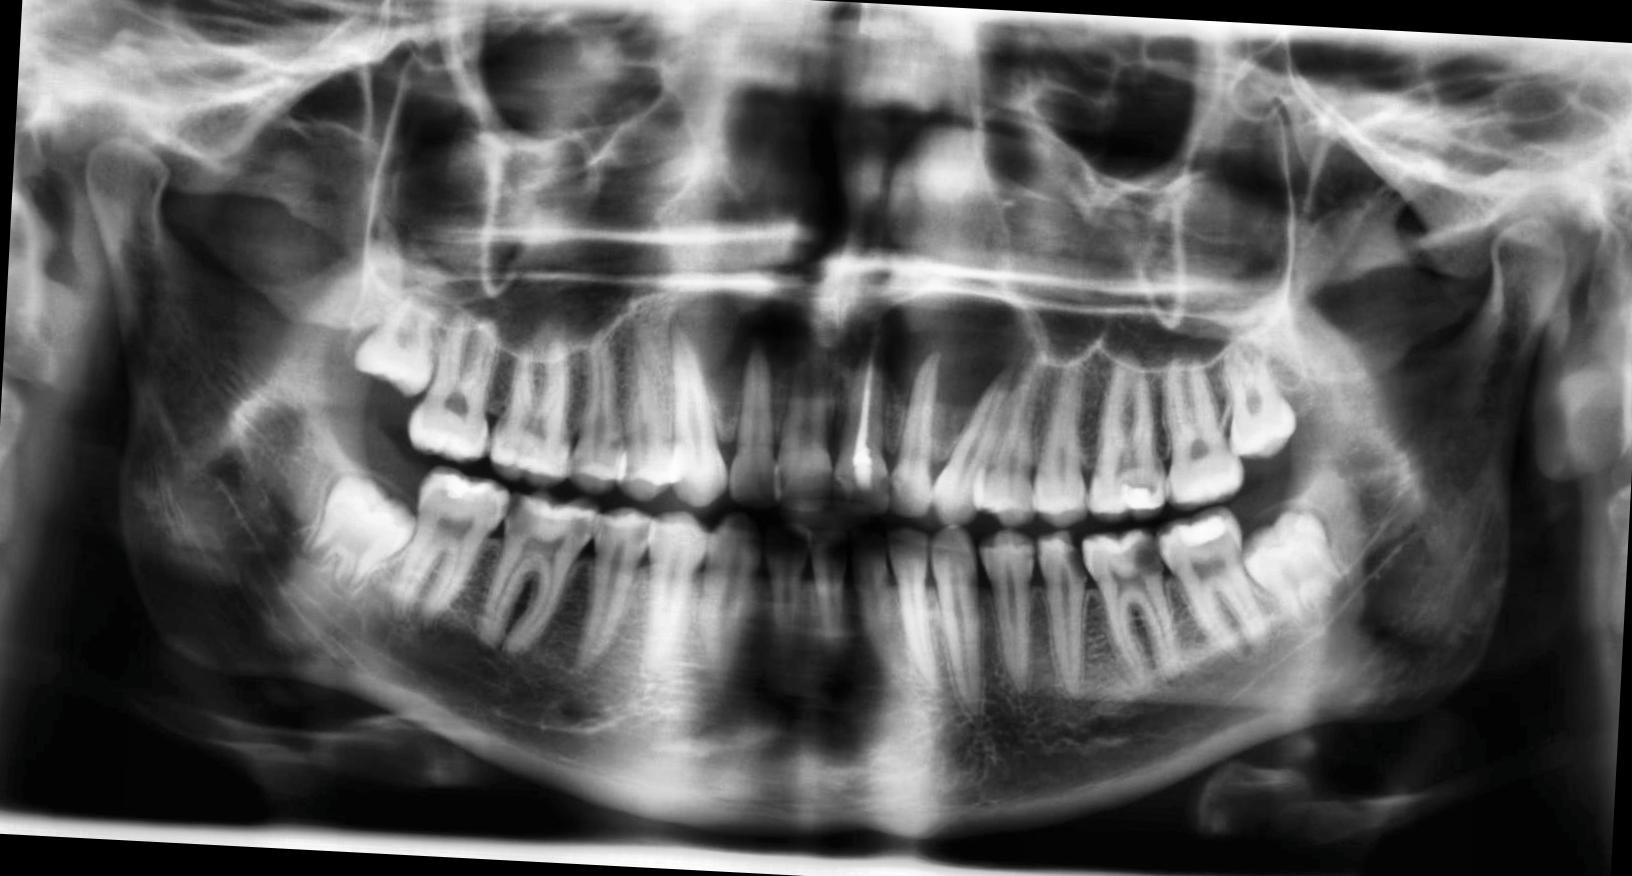radikuler: (664, 276, 1040, 436)
